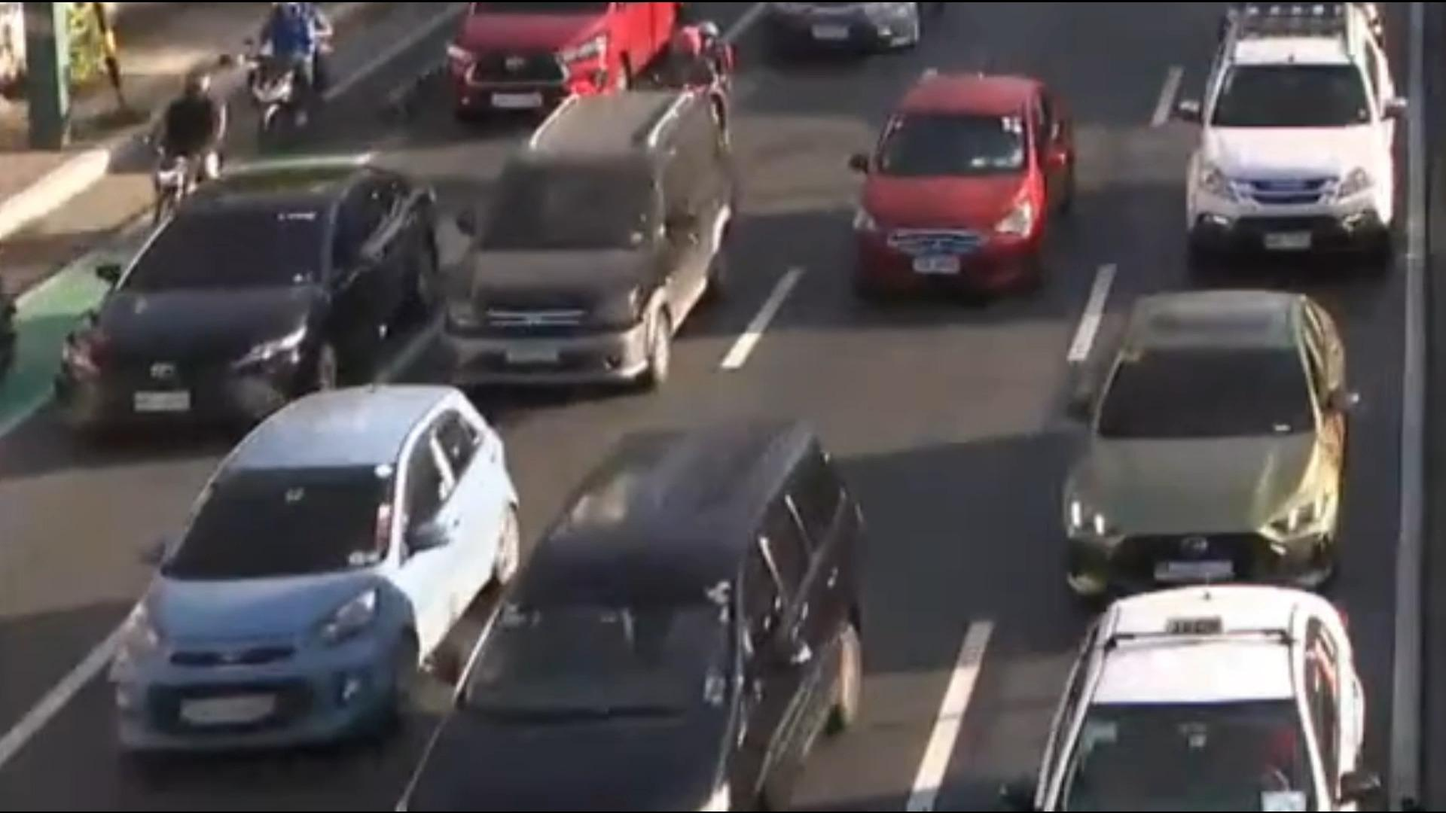Motorcycle: (131, 65, 238, 228), (233, 5, 336, 148), (633, 12, 739, 90)
SUV: (384, 414, 876, 813), (432, 88, 736, 399), (1172, 0, 1413, 266)
Sedan: (95, 381, 525, 763), (60, 161, 439, 439), (1032, 279, 1363, 592), (999, 582, 1383, 813), (833, 70, 1074, 309), (434, 0, 675, 130)
